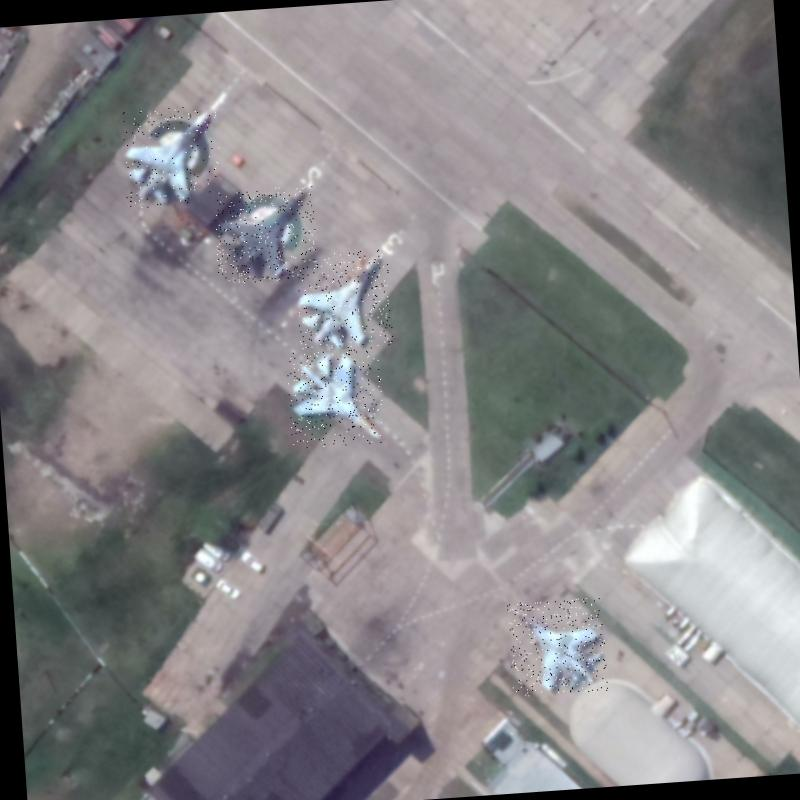A1: (120, 104, 224, 209), (212, 185, 318, 284), (507, 596, 608, 696), (286, 346, 384, 449), (294, 249, 393, 350)
